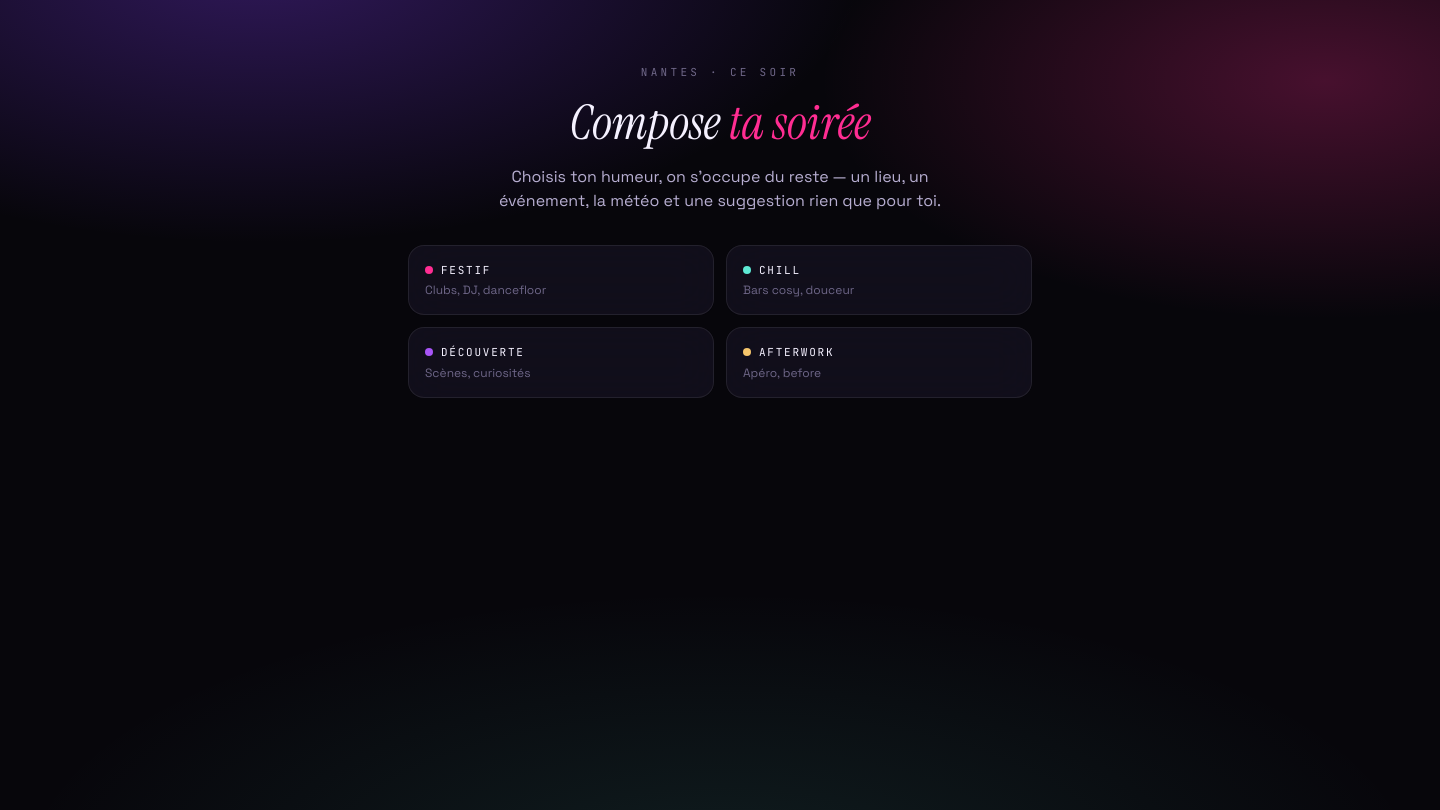
Test: SoireePage › composes a soiree when a mood is chosen
Click the button with test id "soiree-mood" at x=466, y=270, box [408,244,714,315]
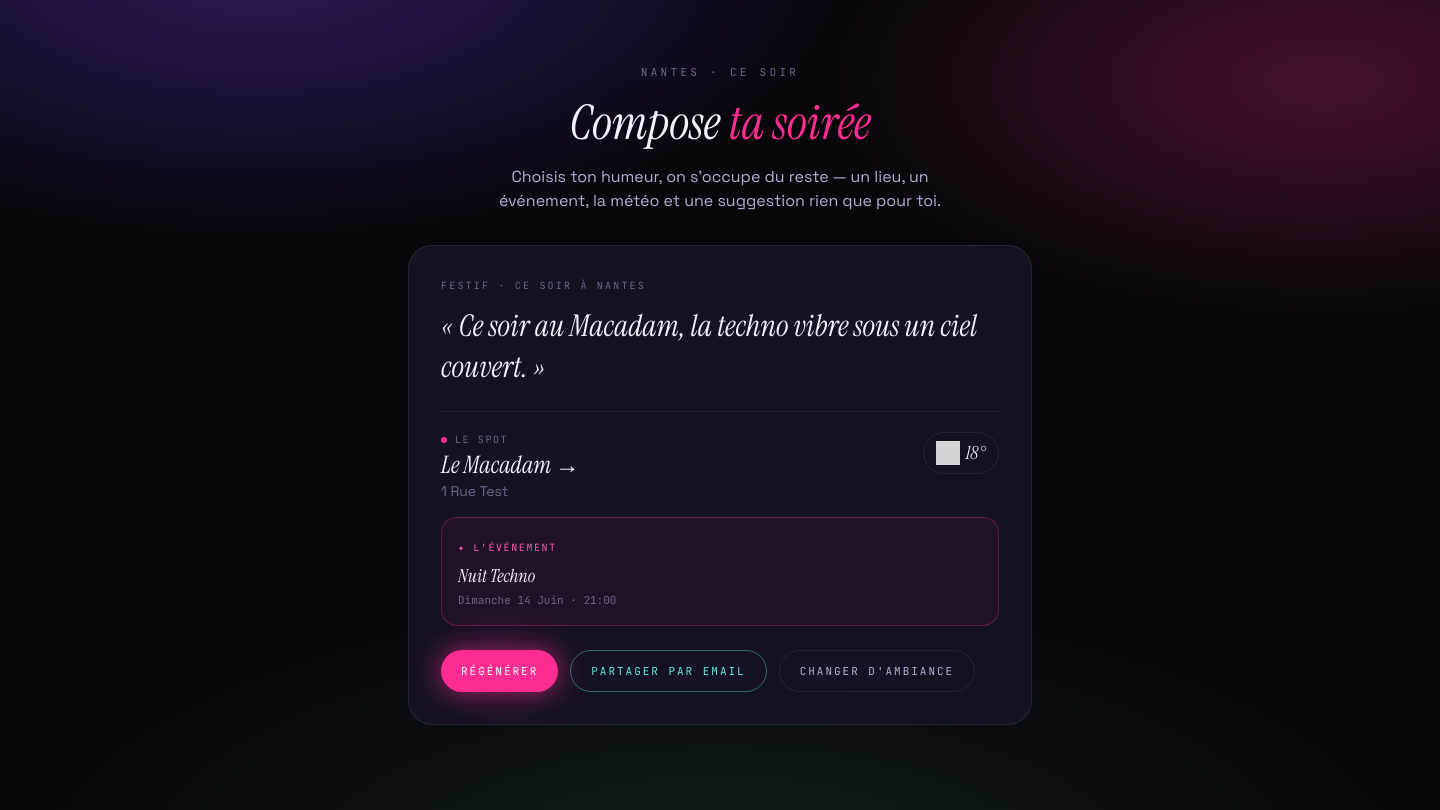
Expected: the element with test id "soiree-result" is shown, [408,244,1032,725]
Expected: the text with test id "soiree-narrative" shows "la techno vibre", [441,306,977,386]
Expected: the element with test id "soiree-result" shows "Le Macadam", [441,449,579,480]
